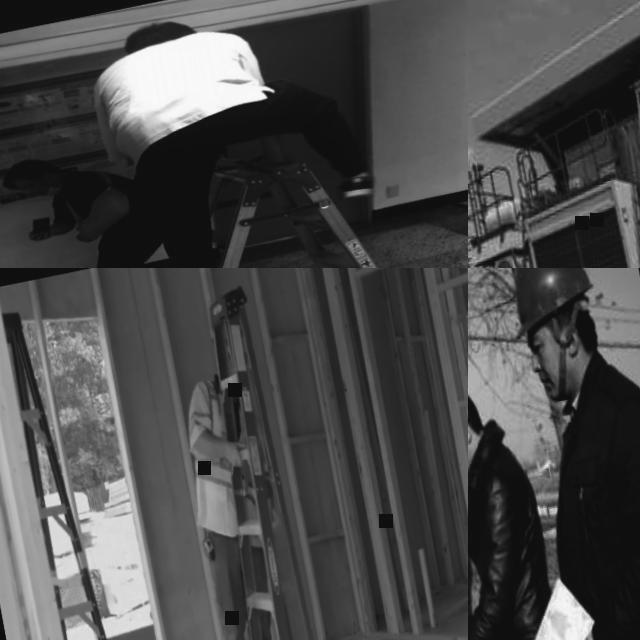helmet: (500, 268, 601, 339), (207, 317, 249, 370)
machinery: (468, 0, 640, 268)
mask: (42, 172, 66, 197)
no_helmet: (126, 17, 190, 46), (0, 155, 43, 186)
no_mask: (535, 340, 584, 404), (468, 437, 478, 479)
no_vest: (539, 380, 640, 640), (89, 24, 261, 142), (468, 455, 566, 640), (66, 163, 144, 244)
person: (79, 0, 394, 268), (491, 268, 640, 640), (160, 316, 323, 640), (468, 367, 600, 640), (0, 134, 181, 268)
vest: (171, 368, 286, 560)
